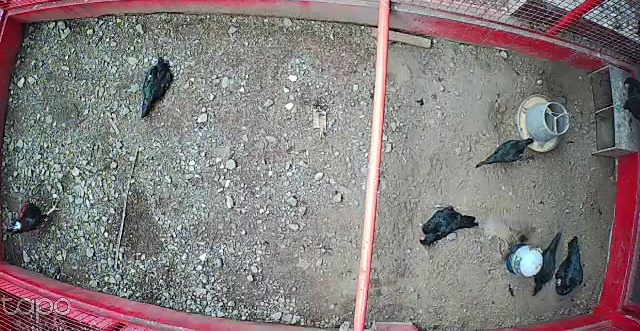Chicken: (416, 199, 482, 247), (139, 53, 177, 119), (531, 228, 565, 299), (475, 134, 536, 170), (555, 235, 590, 296)
Drinker: (508, 243, 541, 277)
Feeder: (516, 91, 571, 152)
Rooster: (3, 193, 63, 242)
